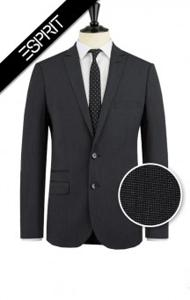F_M_suit jacket: (18, 44, 171, 246)
F_tie: (85, 48, 105, 129)
